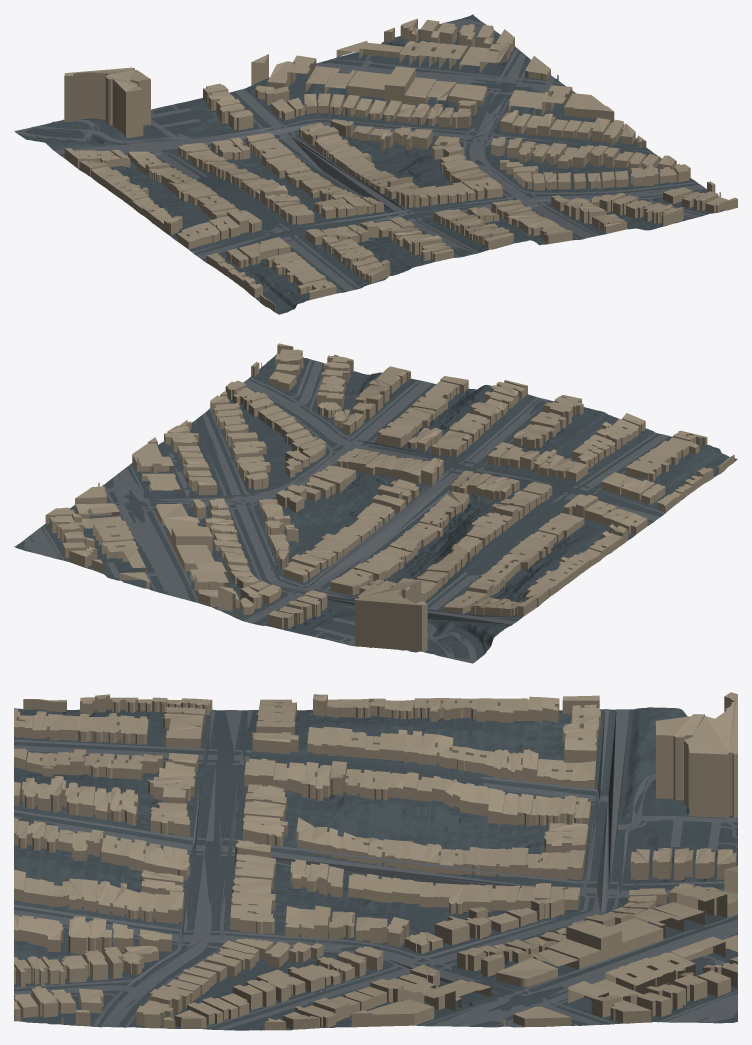
Rendered from epsg26910-1423-10877.lod0.glb.
The picture shows the model from 3 angles, top to bottom: view 1: azimuth 30°, elevation 25°; view 2: azimuth 150°, elevation 25°; view 3: azimuth 270°, elevation 25°; orthographic projection. The views are drawn at different scales.
Visible parts, largest first — view 1: epsg26910-1423-10877-lod0; view 2: epsg26910-1423-10877-lod0; view 3: epsg26910-1423-10877-lod0.
Boxes of the visible parts, box(x1,y1,x2,y2) form: epsg26910-1423-10877-lod0: box(14, 14, 737, 314); epsg26910-1423-10877-lod0: box(14, 343, 737, 663); epsg26910-1423-10877-lod0: box(14, 692, 737, 1030).
Size of the model in its own units: 384 by 52.41 by 384.
